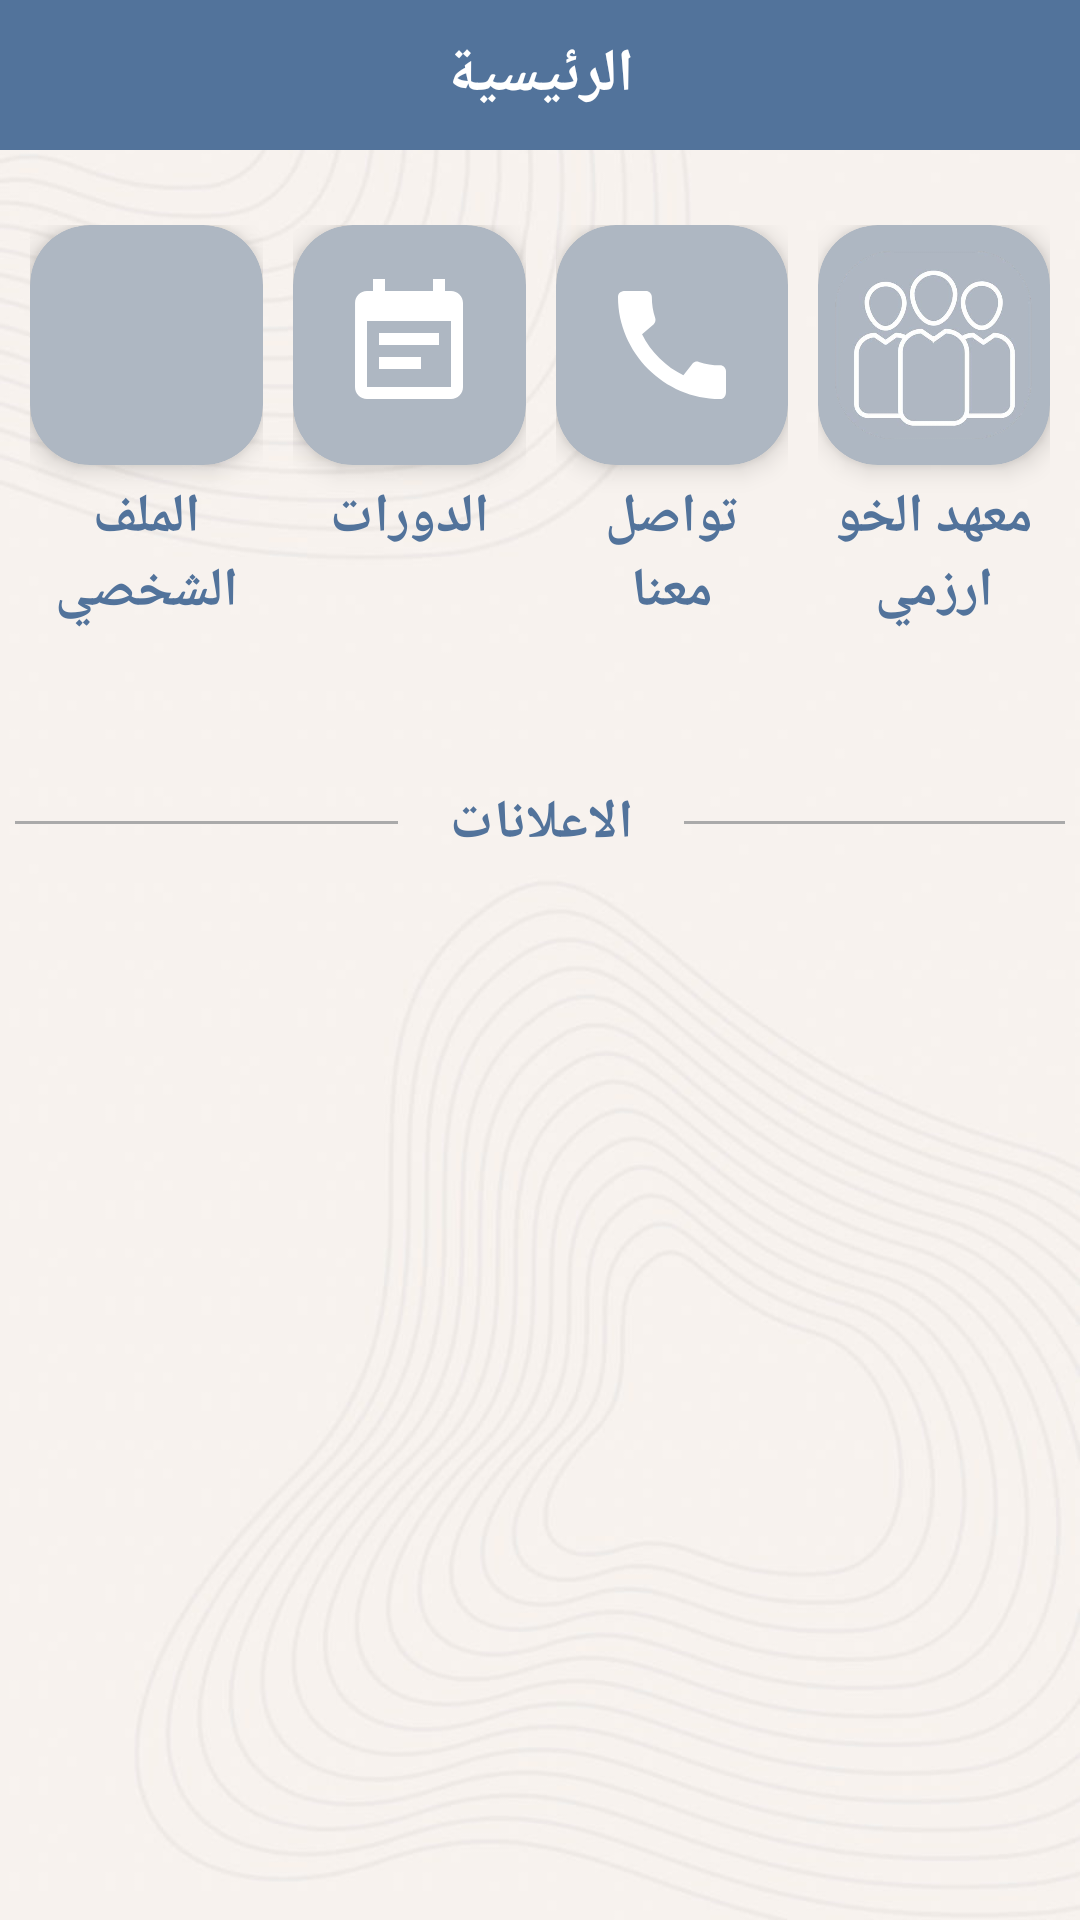

Icons on this 1080w x 1920h Android screen, each with its box as [x1=x1, y1=y1, x2=x2, y2=y2]:
call: [x1=618, y1=291, x2=726, y2=399]
event note: [x1=355, y1=279, x2=463, y2=399]
